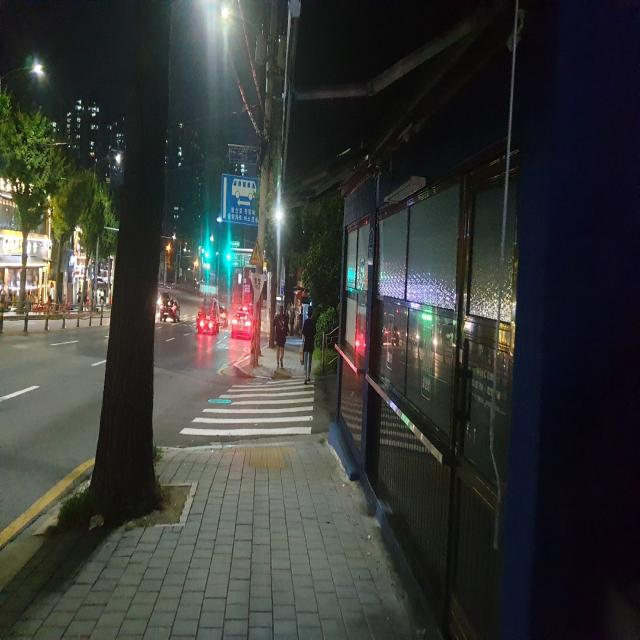횡단보도: (179, 380, 315, 436)
